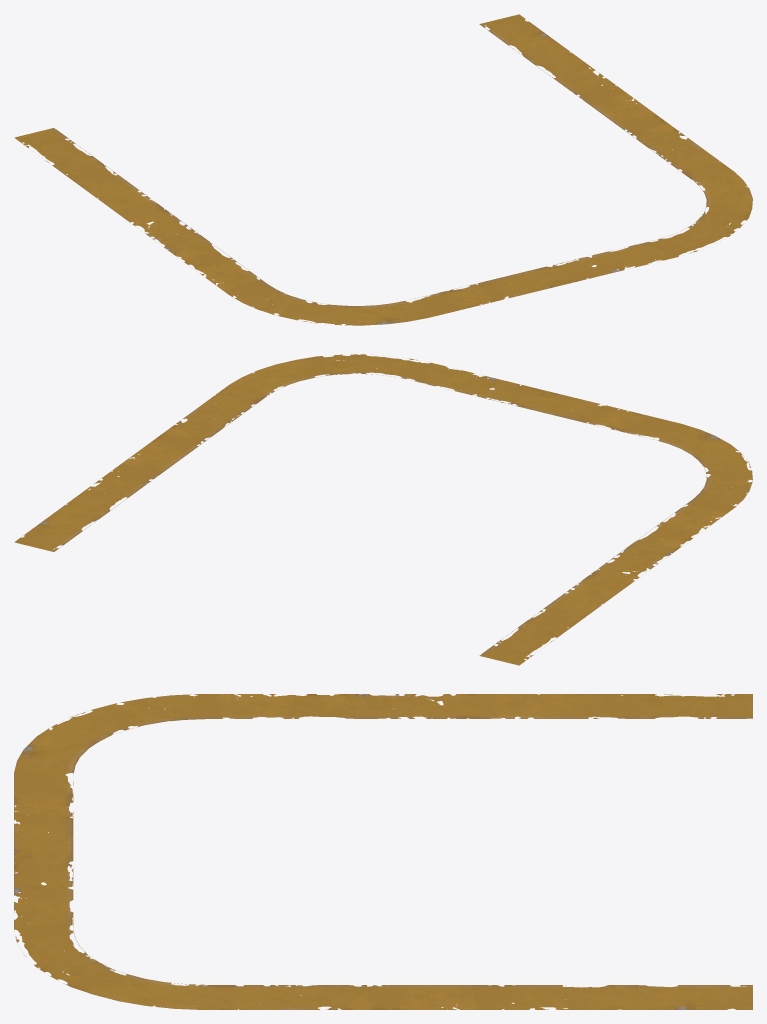
Rendered from SM_Stripe_Floor_01f.glb.
3 views of the same model, one above another, from view 1: azimuth 30°, elevation 25°; view 2: azimuth 150°, elevation 25°; view 3: azimuth 270°, elevation 25° (orthographic). The views are drawn at different scales.
Visible parts, largest first — view 1: SM_Stripe_Floor_01f; view 2: SM_Stripe_Floor_01f; view 3: SM_Stripe_Floor_01f.
Part boxes in pixels (<box>): SM_Stripe_Floor_01f: <box>14,14,752,325</box>; SM_Stripe_Floor_01f: <box>14,354,752,665</box>; SM_Stripe_Floor_01f: <box>14,694,752,1009</box>.
Bounding box in the file's own units: 1.23 × 1.01e-06 × 1.21.
1 material, 1 textured.
